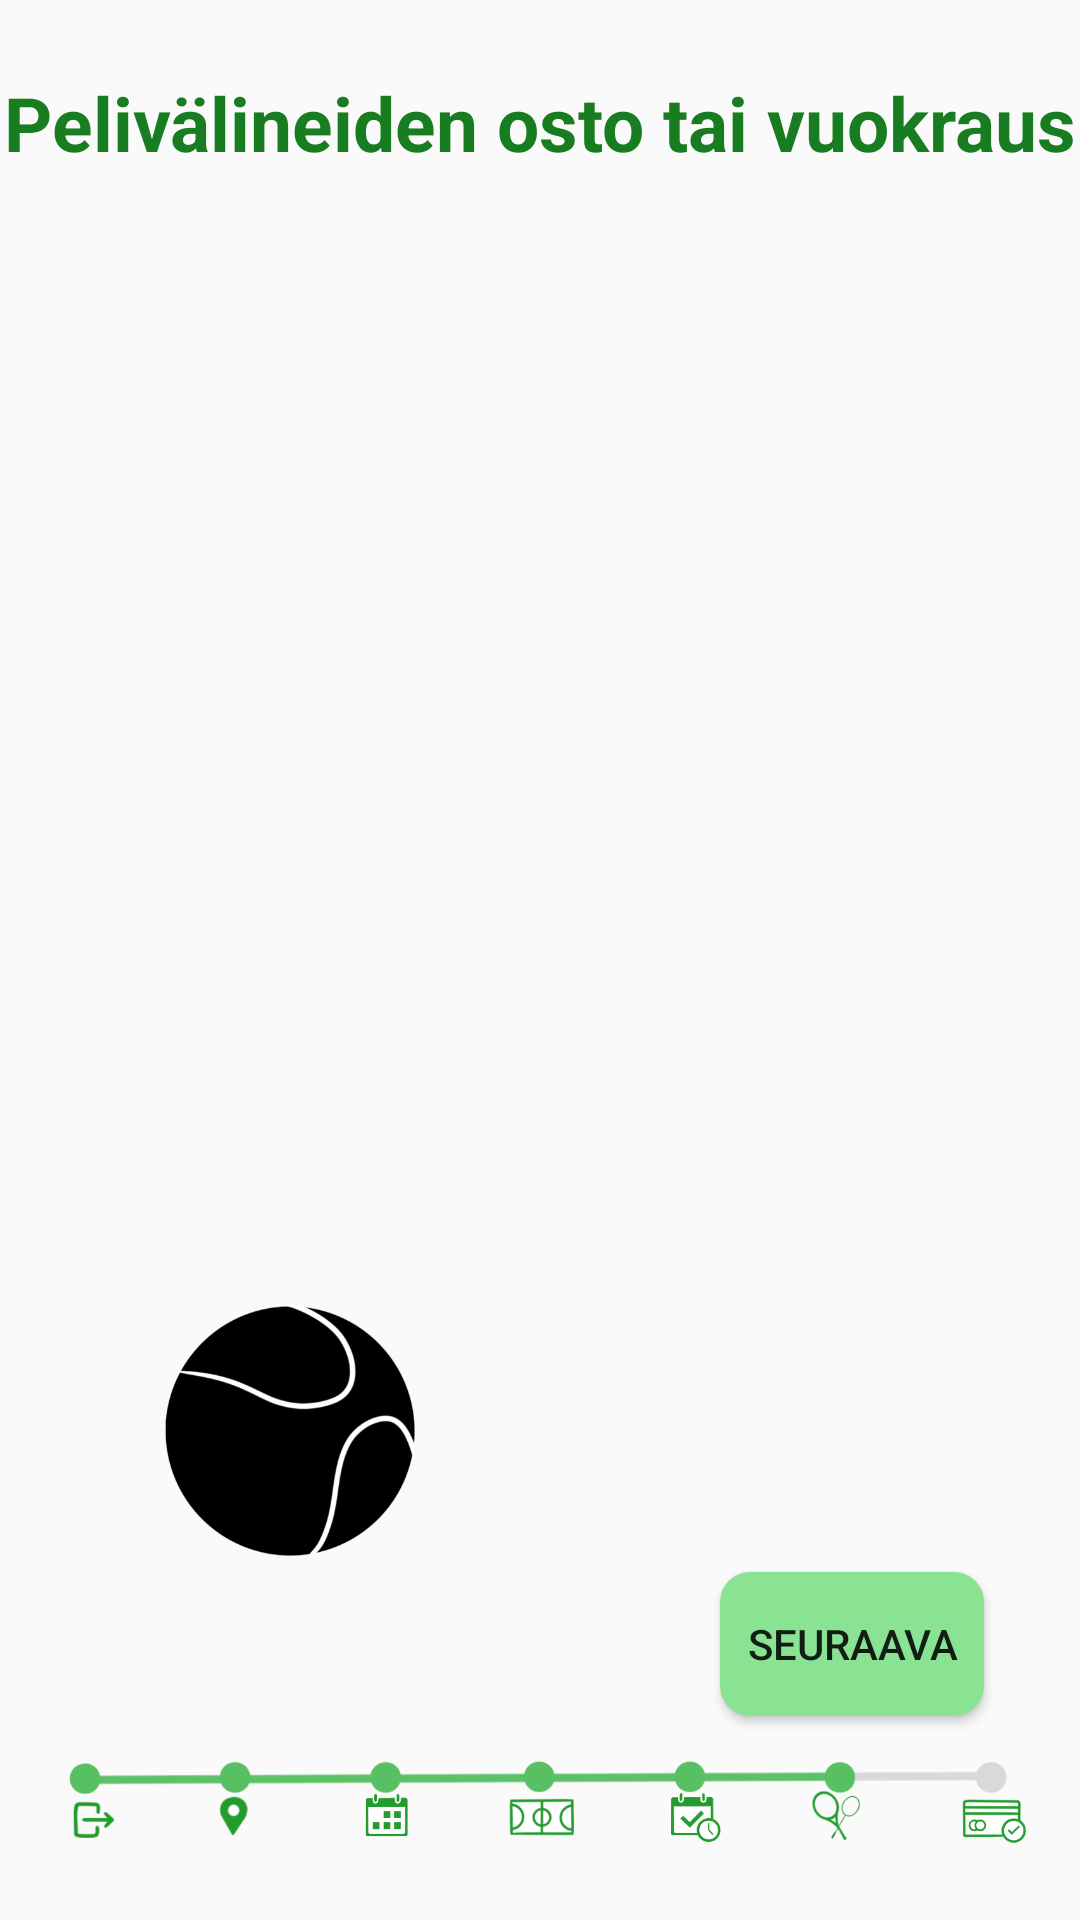

Icons on this 1080*1920 Android screen, each with the point to tap as point (x, y):
tennispallo: point (290, 1431)
